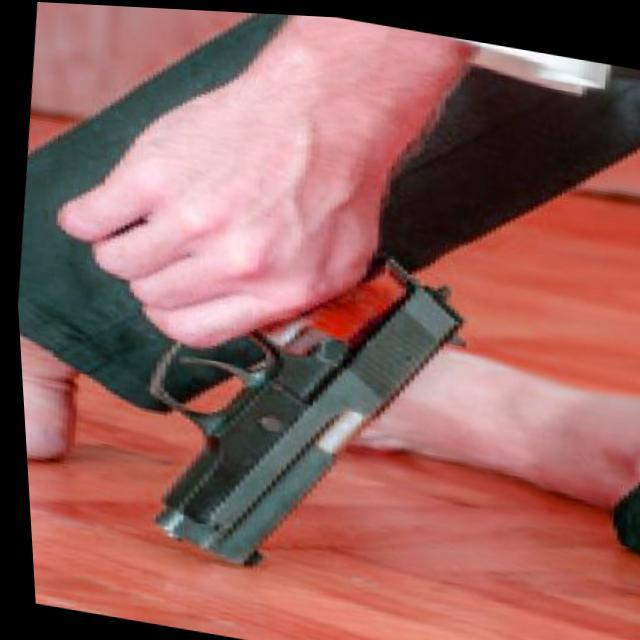weapon: (37, 141, 491, 608)
